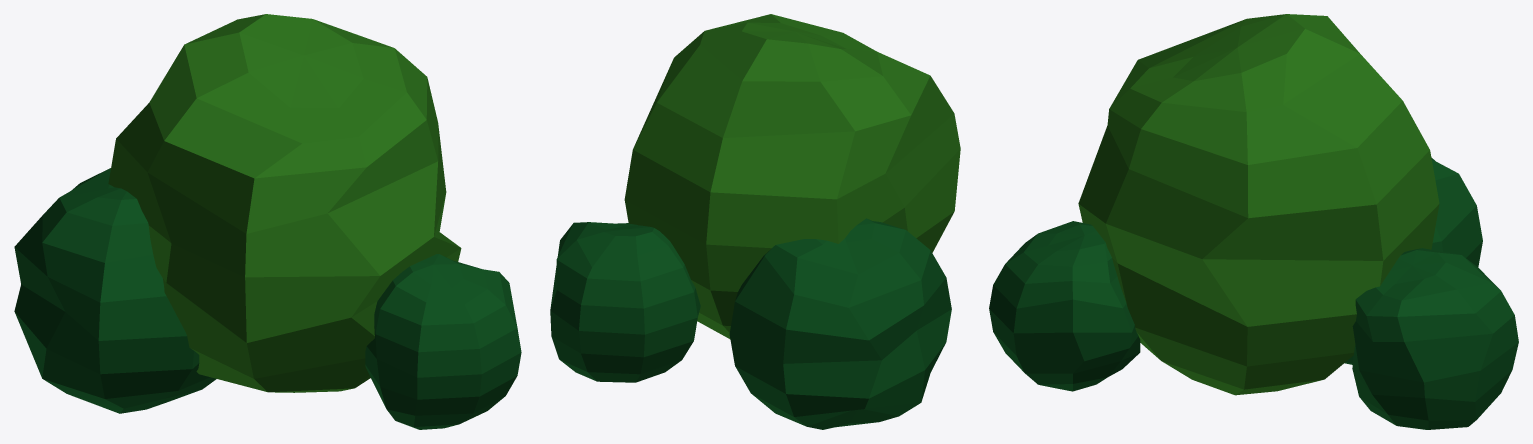
Rendered from george_w 2.fbx.
3 views of the same model, side by side, from view 1: azimuth 30°, elevation 25°; view 2: azimuth 150°, elevation 25°; view 3: azimuth 270°, elevation 25° (orthographic). The views are drawn at different scales.
Parts seen in each view (by area): view 1: george_w2; view 2: george_w2; view 3: george_w2.
Boxes of the visible parts, x1=… form: george_w2: x1=14, y1=14, x2=521, y2=429; george_w2: x1=550, y1=14, x2=960, y2=429; george_w2: x1=989, y1=14, x2=1518, y2=429.
Bounding box in the file's own units: 180 × 174 × 222.
